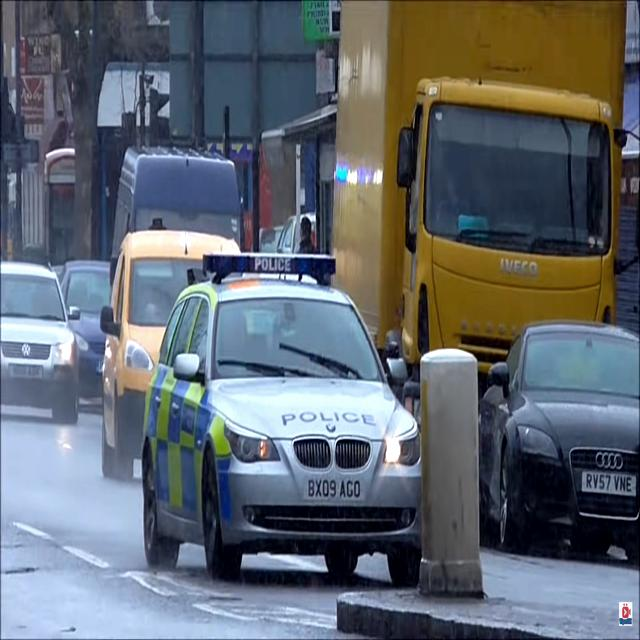emergency-vehicles: (141, 241, 429, 600)
